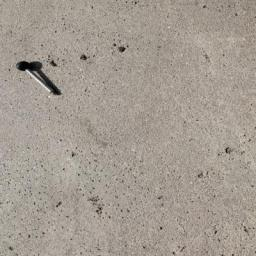FOD: (16, 60, 64, 98)
